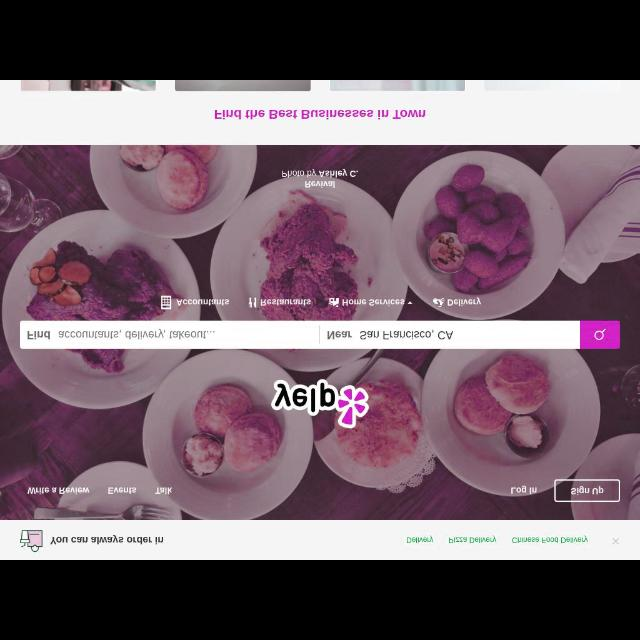backgroundimage: (1, 146, 639, 518)
button: (581, 322, 619, 348)
icon: (432, 296, 444, 310), (162, 294, 172, 310), (595, 328, 607, 340), (247, 296, 257, 308), (611, 538, 619, 546), (408, 301, 412, 305)
image: (272, 380, 370, 428), (19, 528, 43, 554)
input: (21, 320, 321, 348), (322, 320, 580, 350)
text: (216, 107, 428, 121), (328, 328, 452, 342), (283, 168, 359, 190), (59, 329, 218, 338), (50, 534, 166, 546), (512, 534, 588, 546), (26, 486, 90, 496), (342, 297, 406, 307), (448, 534, 498, 544), (178, 296, 228, 306), (261, 298, 311, 308), (448, 296, 480, 308), (508, 484, 538, 496), (570, 485, 604, 495), (404, 535, 436, 545), (28, 328, 50, 342), (107, 486, 137, 494), (155, 484, 173, 496)
textbutton: (555, 480, 619, 500)
